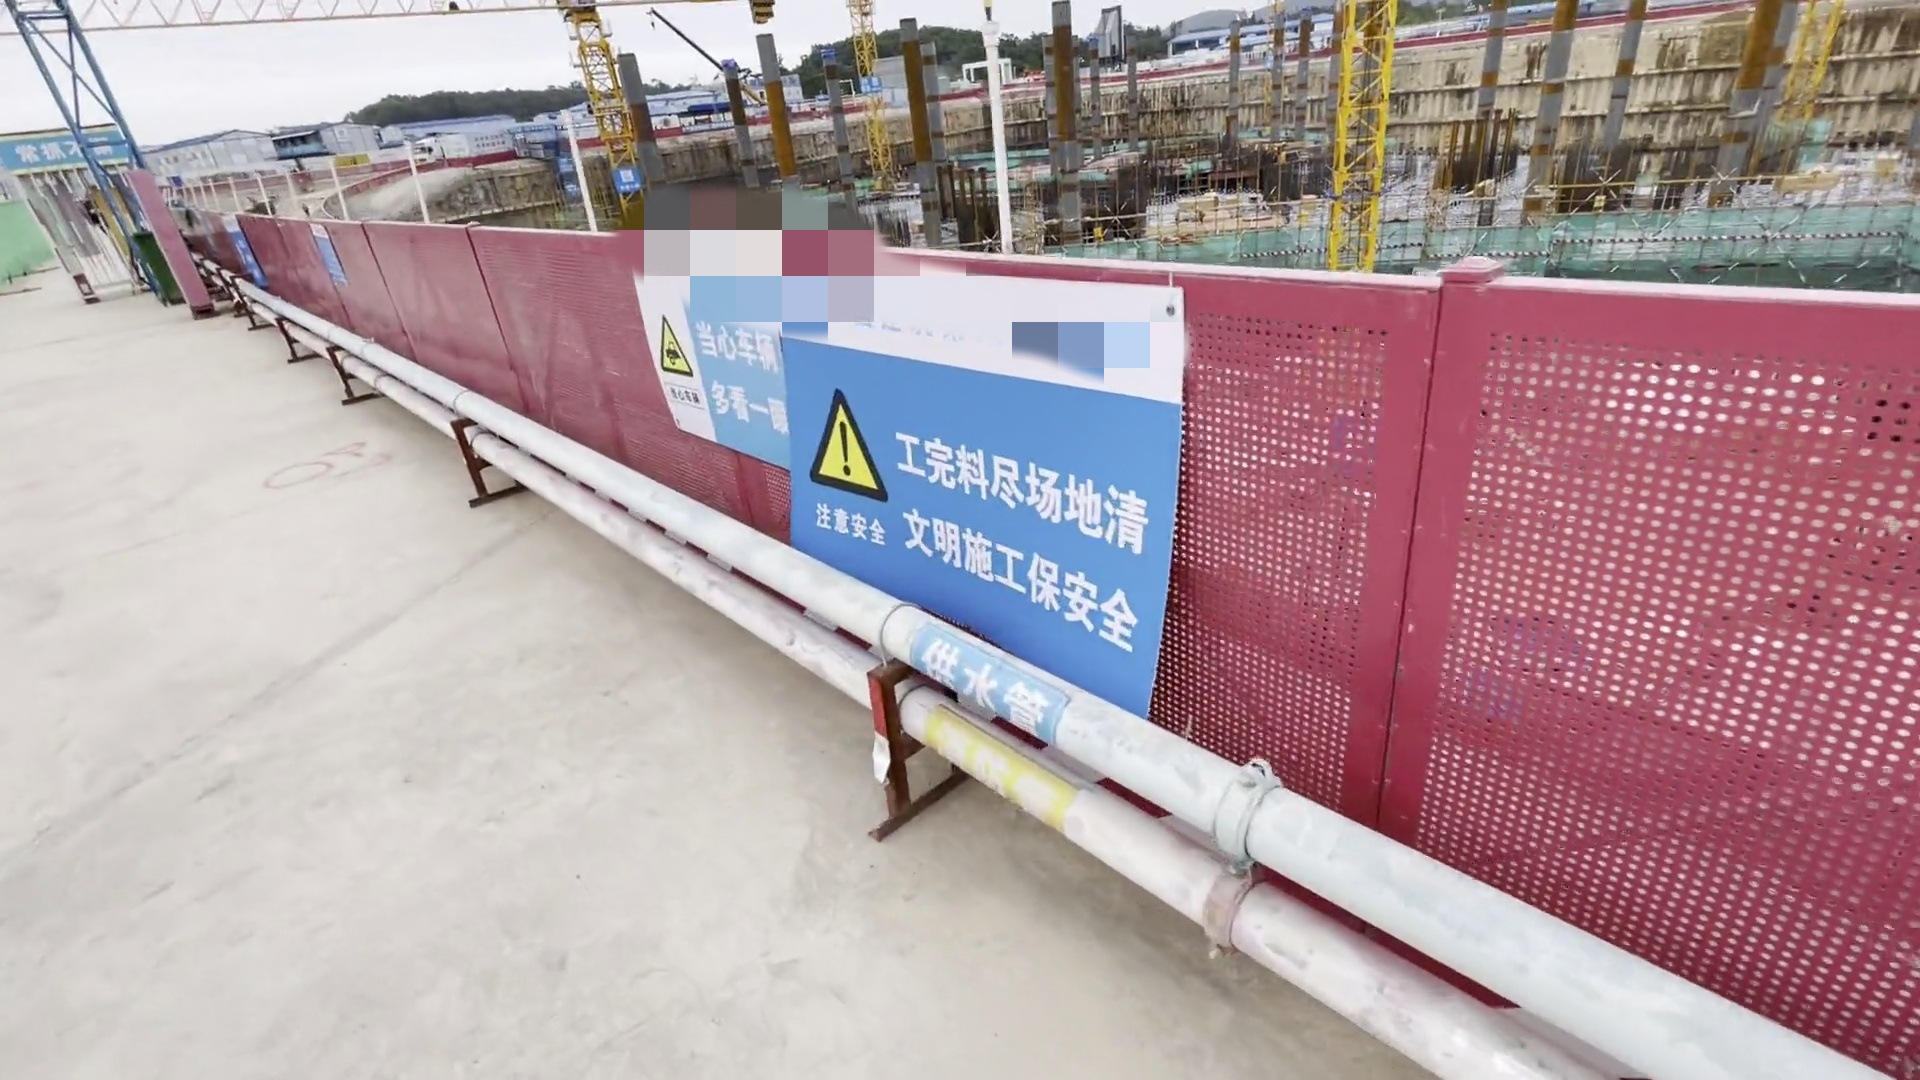fence: (191, 202, 1873, 1042)
slogan: (618, 247, 1182, 647), (211, 204, 339, 298), (9, 117, 117, 170)
